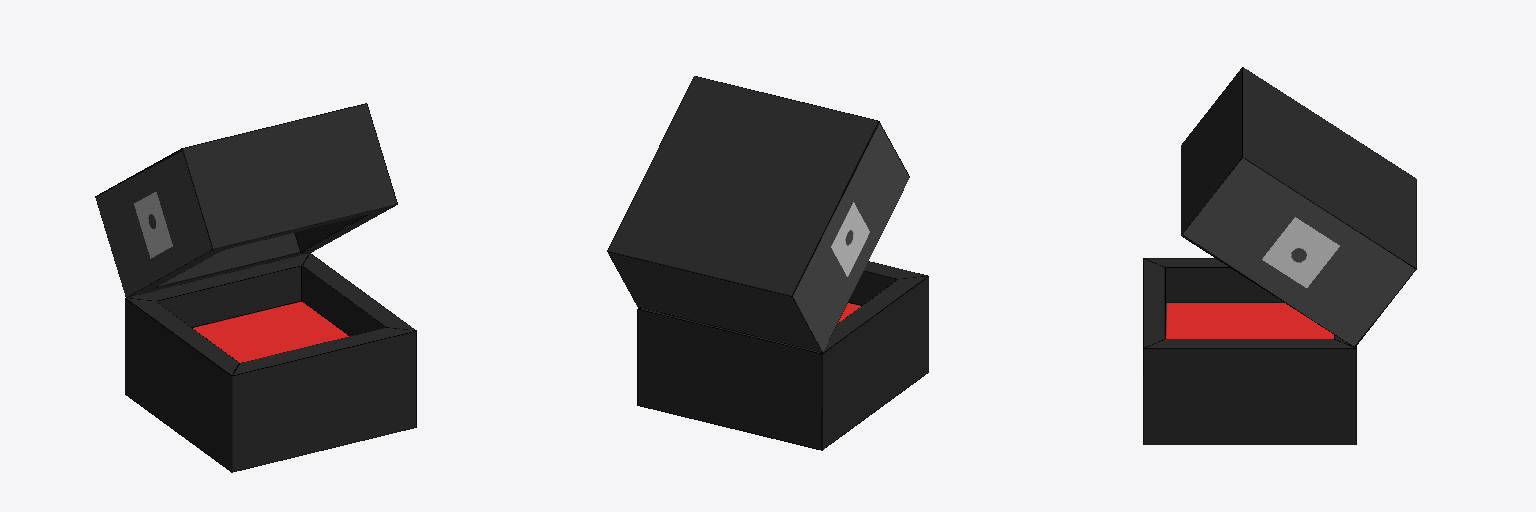
The picture shows the model from 3 angles: view 1: azimuth 30°, elevation 25°; view 2: azimuth 150°, elevation 25°; view 3: azimuth 270°, elevation 25°; orthographic projection.
Parts seen in each view (by area): view 1: 立方体.001; view 2: 立方体.001; view 3: 立方体.001.
Part boxes in pixels (bbox=[...]): 立方体.001: bbox=[95, 103, 416, 472]; 立方体.001: bbox=[607, 76, 928, 450]; 立方体.001: bbox=[1143, 67, 1416, 444].
Size of the model in its own units: 0.8 by 1.19 by 1.02.
Materials: 1 (1 with a texture image).